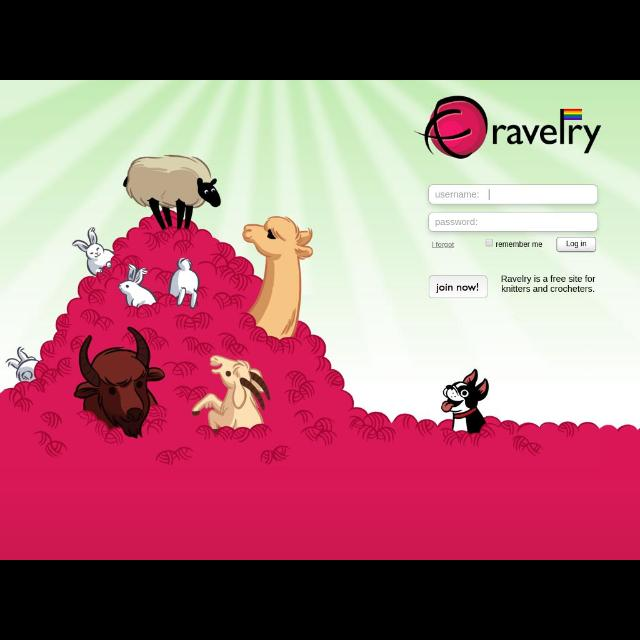backgroundimage: (0, 81, 638, 559)
checkbox: (486, 238, 494, 246)
image: (414, 96, 606, 160)
input: (429, 184, 599, 206), (429, 212, 599, 232)
text: (500, 274, 598, 294), (496, 242, 542, 248), (430, 241, 456, 249)
textbutton: (429, 275, 487, 299), (557, 236, 597, 254)
